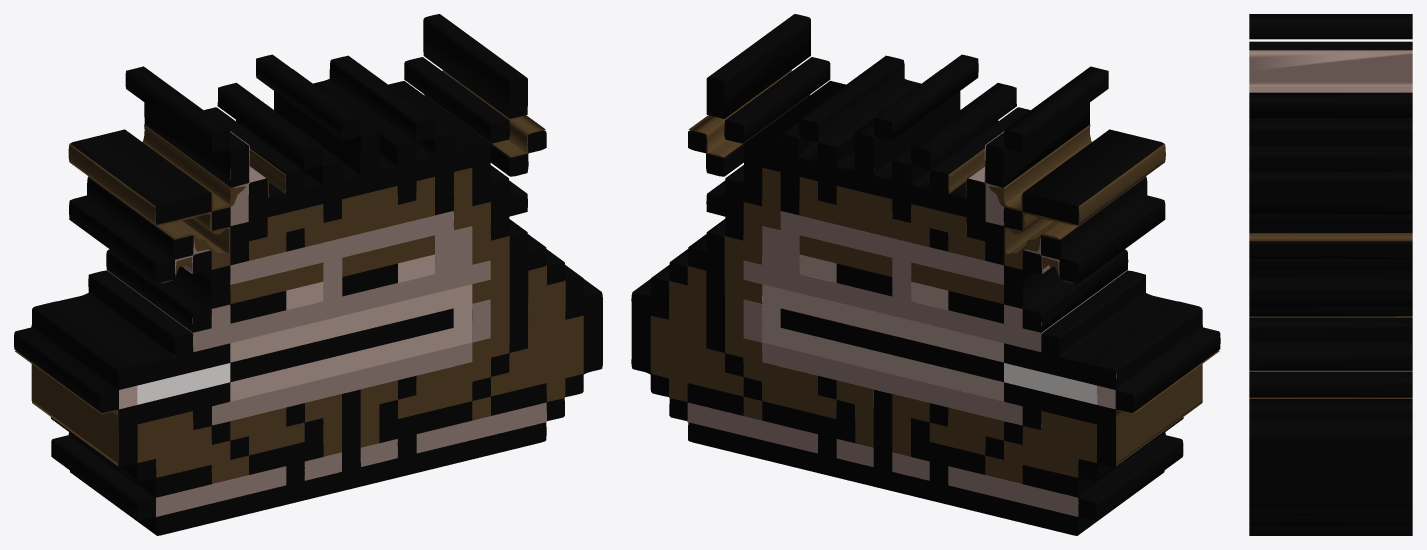
File: Toadz_2628.glb
3 renders of one model, left to right at view 1: azimuth 30°, elevation 25°; view 2: azimuth 150°, elevation 25°; view 3: azimuth 270°, elevation 25°, orthographic. The views are drawn at different scales.
Visible parts, largest first — view 1: Curve; view 2: Curve; view 3: Curve.
Part boxes in pixels (box(x1,y1,x2,y2)): Curve: box(14, 14, 602, 535); Curve: box(631, 14, 1220, 535); Curve: box(1249, 14, 1412, 535).
Size of the model in its own units: 3.36 by 2.49 by 1.
